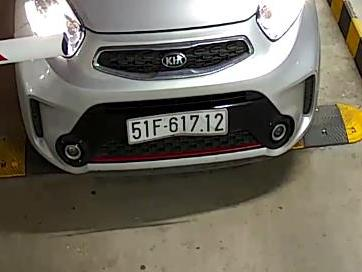car: (127, 109, 229, 145)
